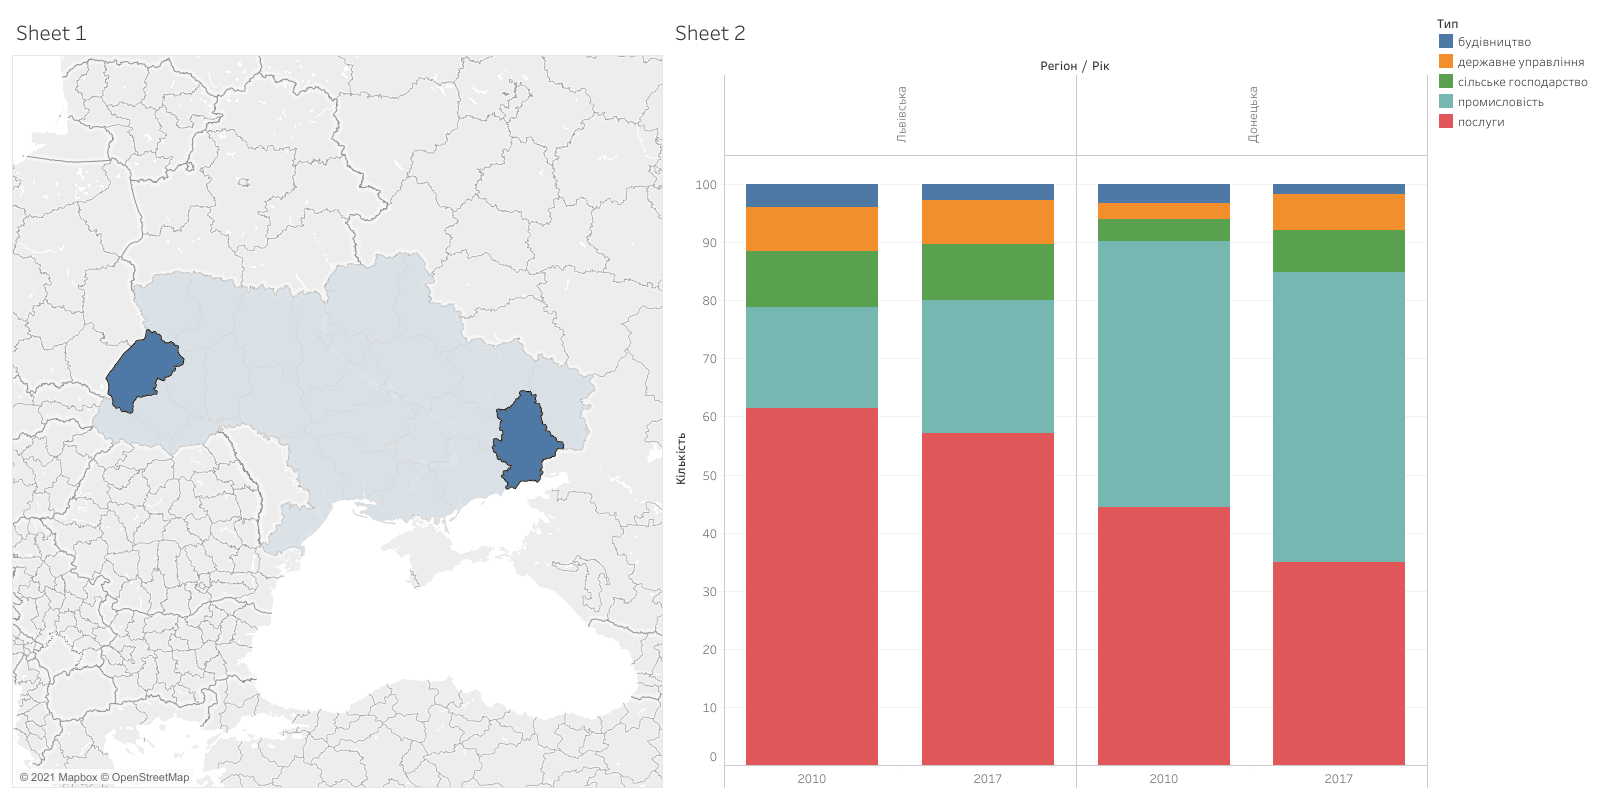

What the dashboard file says about the page in this screenshot:
{"tool":"tableau","page":{"name":"Dashboard 1","canvas":[1600,800],"ordinal":0},"visuals":[{"type":"worksheet","title":"Sheet 1","mark":"Multipolygon","box":[8,8,659,784]},{"type":"worksheet","title":"Sheet 2","mark":"Bar","rows":["кількість"],"cols":["регіон","рік"],"box":[667,8,765,784]},{"type":"legend","title":"Sheet 2","param":"[federated.02fjs6z1skt3q119shs4v1us3ad7].[none:тип:nk]","box":[1432,8,160,126]}]}

Visuals, with their boxes in screenshot pixels (x1, y1, x2, y2), scaled from the page's 1600x800 canvas onto the 1599x799 screenshot:
"Sheet 1" worksheet (Multipolygon marks): pyautogui.locateOnScreen(8, 8, 667, 791)
"Sheet 2" worksheet (Bar marks): pyautogui.locateOnScreen(667, 8, 1431, 791)
"Sheet 2" legend: pyautogui.locateOnScreen(1431, 8, 1591, 134)
